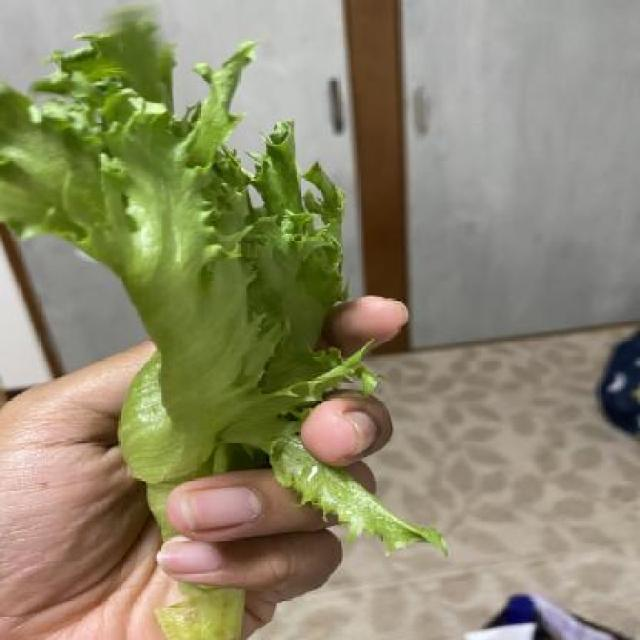Lettuce: (5, 17, 397, 612)
